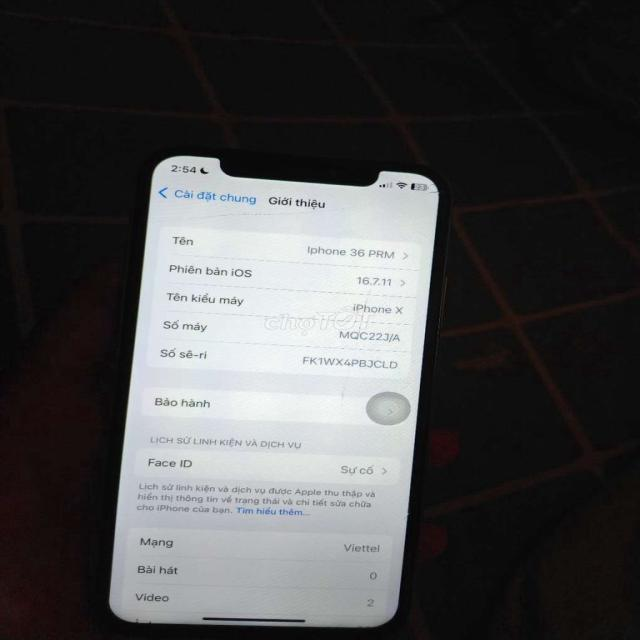gen_x_xs: (108, 153, 445, 632)
